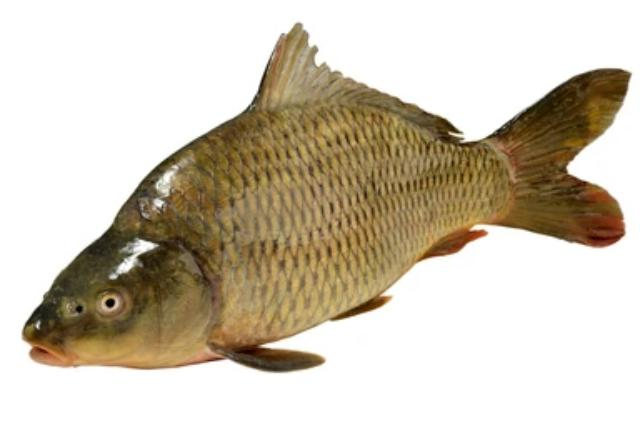Mulut: (4, 300, 90, 394)
Sirip Anal: (410, 214, 504, 272)
Sirip Dada: (192, 325, 342, 401)
Sirip Ekor: (492, 58, 640, 260)
Sirip Perut: (322, 284, 406, 334)
Sirip Punggung: (237, 12, 473, 148)
